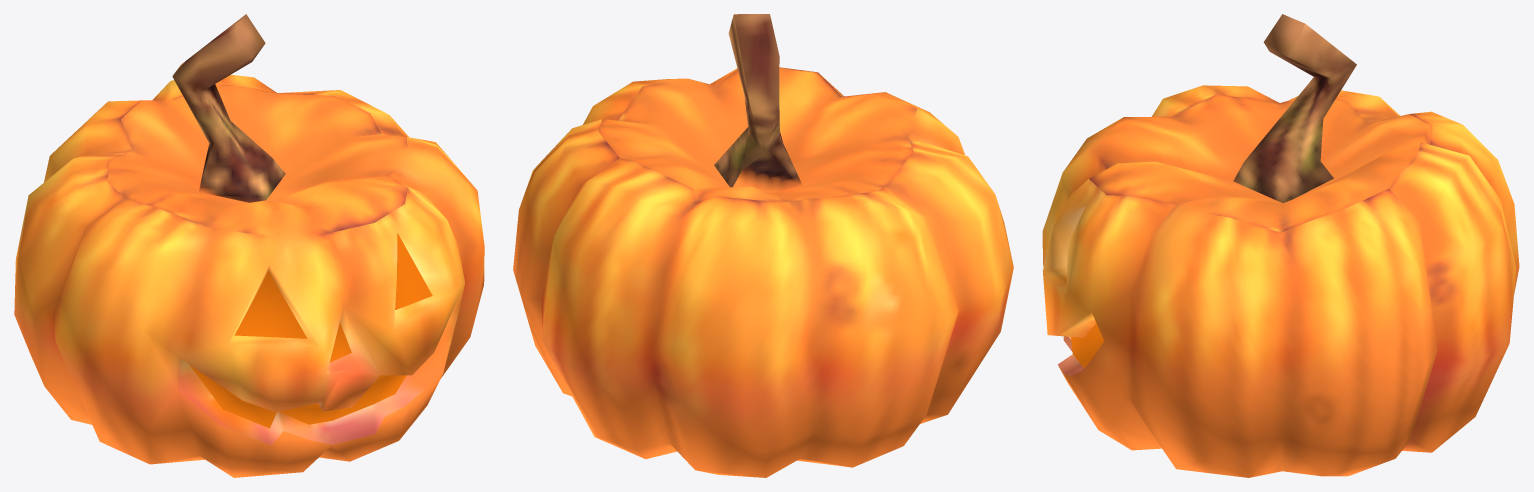
The model's file is CarvedPumpkin02.glb.
3 renders of one model, left to right at view 1: azimuth 30°, elevation 25°; view 2: azimuth 150°, elevation 25°; view 3: azimuth 270°, elevation 25°, orthographic. The views are drawn at different scales.
Parts seen in each view (by area): view 1: CarvedPumpkin02; view 2: CarvedPumpkin02; view 3: CarvedPumpkin02.
Boxes of the visible parts, <box> form: CarvedPumpkin02: <box>14,14,484,477</box>; CarvedPumpkin02: <box>513,14,1013,477</box>; CarvedPumpkin02: <box>1042,14,1519,477</box>.
Size of what is drawn, in the model's own units: 0.581 by 0.5257 by 0.5602.
Materials: 2 (2 with a texture image).
